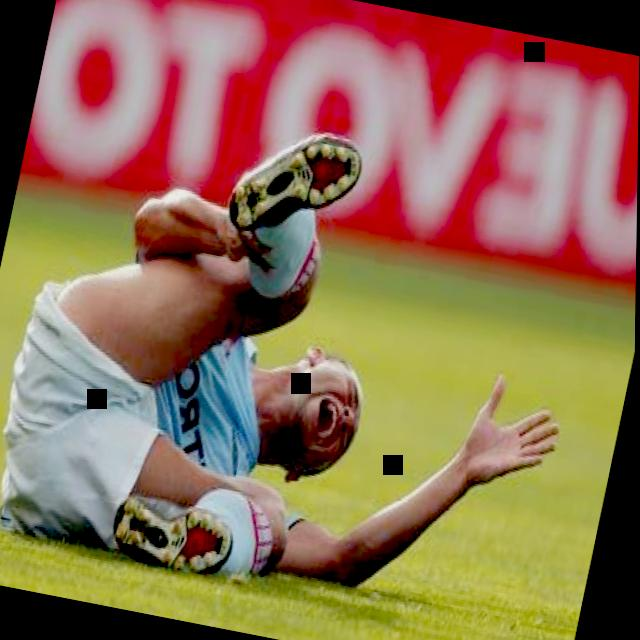Fall-Detected: (0, 35, 640, 640)
